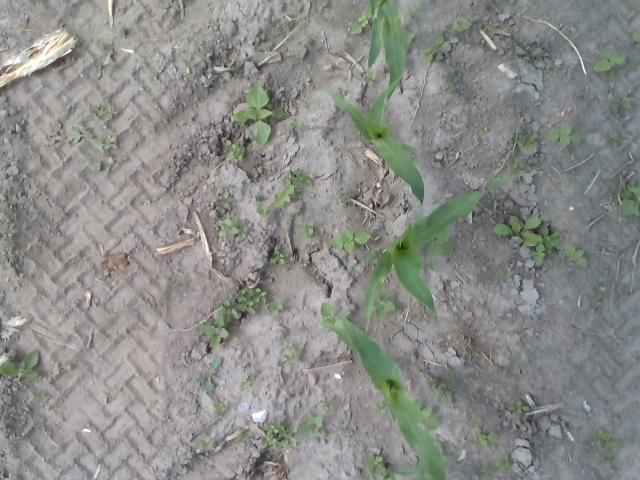Maize: (364, 170, 544, 330), (326, 306, 449, 480), (322, 70, 425, 218), (367, 0, 408, 102), (375, 458, 425, 480)
Weeds: (230, 84, 272, 148), (199, 299, 237, 348), (492, 214, 543, 248), (274, 170, 312, 207), (328, 228, 372, 253), (0, 352, 39, 380), (260, 420, 298, 448), (426, 371, 456, 406), (594, 50, 626, 82), (320, 302, 351, 334), (234, 286, 267, 316), (615, 180, 640, 219), (194, 358, 222, 392), (363, 452, 395, 480), (427, 226, 455, 258), (412, 400, 439, 431), (90, 42, 112, 80), (548, 125, 581, 148), (72, 125, 102, 150), (562, 241, 589, 268), (215, 216, 247, 238), (433, 440, 453, 473), (299, 412, 325, 437), (370, 292, 395, 318), (350, 7, 372, 34), (593, 428, 621, 449), (540, 226, 561, 253), (472, 426, 498, 447), (612, 94, 634, 118), (424, 35, 444, 61), (225, 139, 245, 162), (280, 342, 298, 366), (508, 400, 529, 420), (90, 103, 118, 118), (88, 157, 114, 171), (238, 374, 258, 392), (407, 3, 425, 22), (508, 151, 524, 172), (532, 244, 547, 266), (504, 123, 521, 142), (516, 134, 538, 148), (268, 250, 288, 265), (496, 454, 512, 472), (300, 220, 314, 239), (448, 73, 460, 95), (255, 199, 268, 219), (102, 134, 118, 150), (268, 298, 282, 316), (402, 28, 413, 50), (478, 464, 493, 480), (608, 131, 622, 148), (53, 362, 72, 374), (287, 117, 303, 131), (200, 438, 215, 452), (214, 402, 226, 419), (321, 396, 334, 410), (270, 106, 283, 120), (234, 431, 250, 442), (372, 403, 388, 414), (166, 278, 179, 291), (215, 200, 229, 212), (362, 72, 376, 84), (456, 20, 470, 32), (182, 59, 193, 74), (0, 473, 23, 480), (487, 171, 499, 184), (318, 13, 332, 24), (479, 122, 489, 135), (601, 458, 616, 466), (498, 272, 514, 279), (632, 30, 640, 44), (428, 260, 438, 270), (525, 53, 534, 64), (342, 193, 351, 202), (333, 428, 343, 436), (598, 284, 607, 292), (472, 352, 479, 360), (459, 58, 468, 64), (36, 396, 42, 402)
